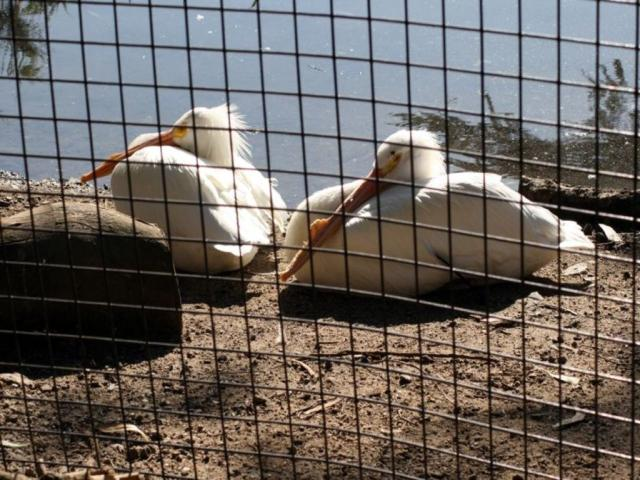Bird: (284, 124, 598, 299), (76, 101, 290, 281)
